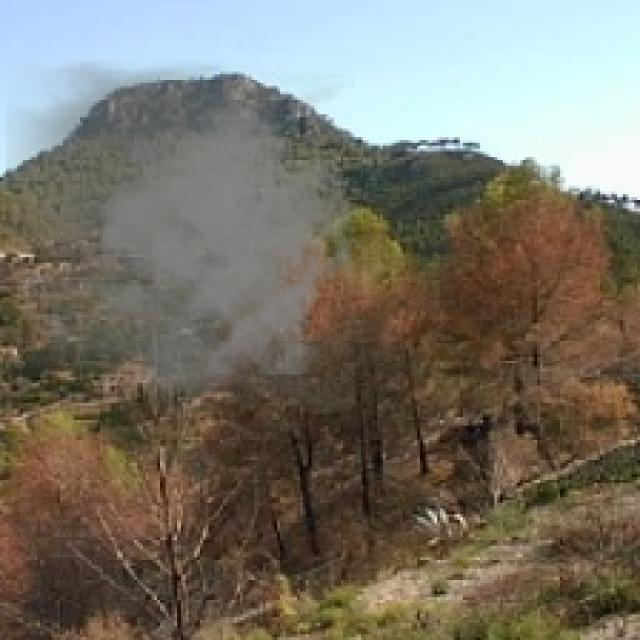smoke: (6, 60, 366, 414)
